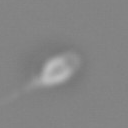normal: (1, 76, 44, 123)
